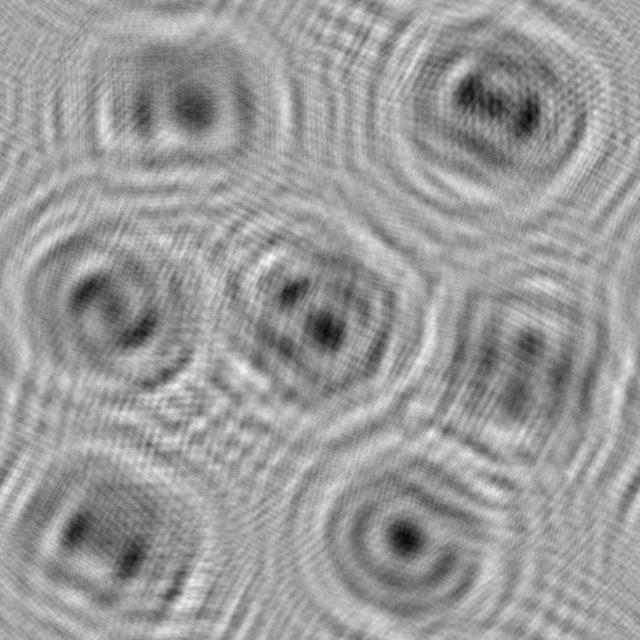B: (374, 0, 613, 217)
E: (0, 430, 253, 640)
F: (57, 11, 287, 217)
H: (403, 233, 640, 492)
P: (264, 403, 536, 640)
R: (190, 171, 443, 451)
S: (0, 177, 231, 441)
